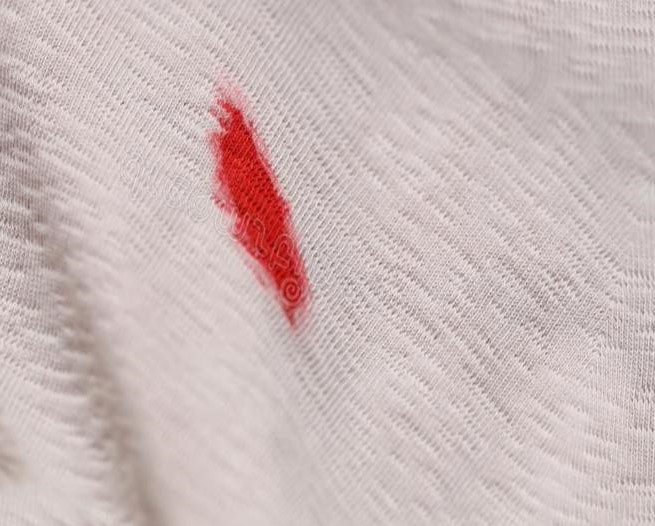stain: (199, 88, 319, 331)
